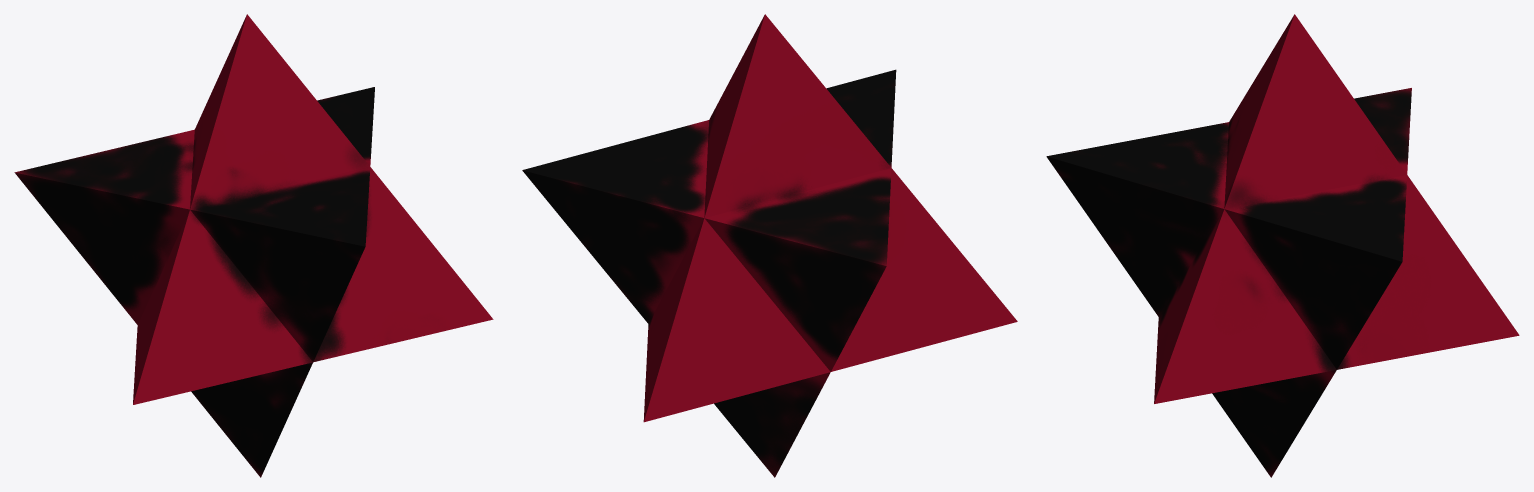
File: geomag12.glb
The picture shows the model from 3 angles, left to right: view 1: azimuth 30°, elevation 25°; view 2: azimuth 150°, elevation 25°; view 3: azimuth 270°, elevation 25°; orthographic projection. The views are drawn at different scales.
Parts seen in each view (by area): view 1: node_id3.001; view 2: node_id3.001; view 3: node_id3.001.
Boxes of the visible parts, x1=… form: node_id3.001: x1=14, y1=14, x2=493, y2=477; node_id3.001: x1=522, y1=14, x2=1017, y2=477; node_id3.001: x1=1046, y1=14, x2=1519, y2=477.
Bounding box in the file's own units: 2.93 × 3.54 × 3.29.
1 material, 1 textured.
